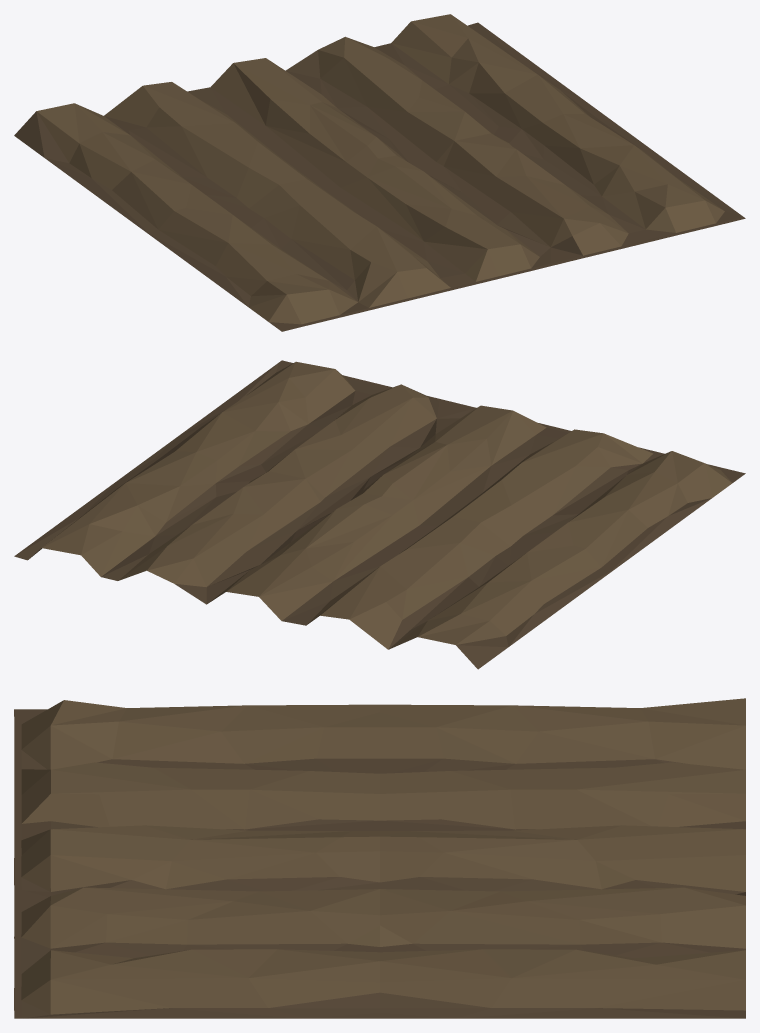
The model's file is SM_Envr_Nature_Farm_Field_Row_End.fbx.
3 views of the same model, one above another, from view 1: azimuth 30°, elevation 25°; view 2: azimuth 150°, elevation 25°; view 3: azimuth 270°, elevation 25° (orthographic). The views are drawn at different scales.
Visible parts, largest first — view 1: SM_Envr_Nature_Farm_Field_Row_End; view 2: SM_Envr_Nature_Farm_Field_Row_End; view 3: SM_Envr_Nature_Farm_Field_Row_End.
Part boxes in pixels (<box>): SM_Envr_Nature_Farm_Field_Row_End: <box>14,14,745,331</box>; SM_Envr_Nature_Farm_Field_Row_End: <box>14,360,745,669</box>; SM_Envr_Nature_Farm_Field_Row_End: <box>14,698,745,1018</box>.
Size of the model in its own units: 500 by 23.38 by 500.
